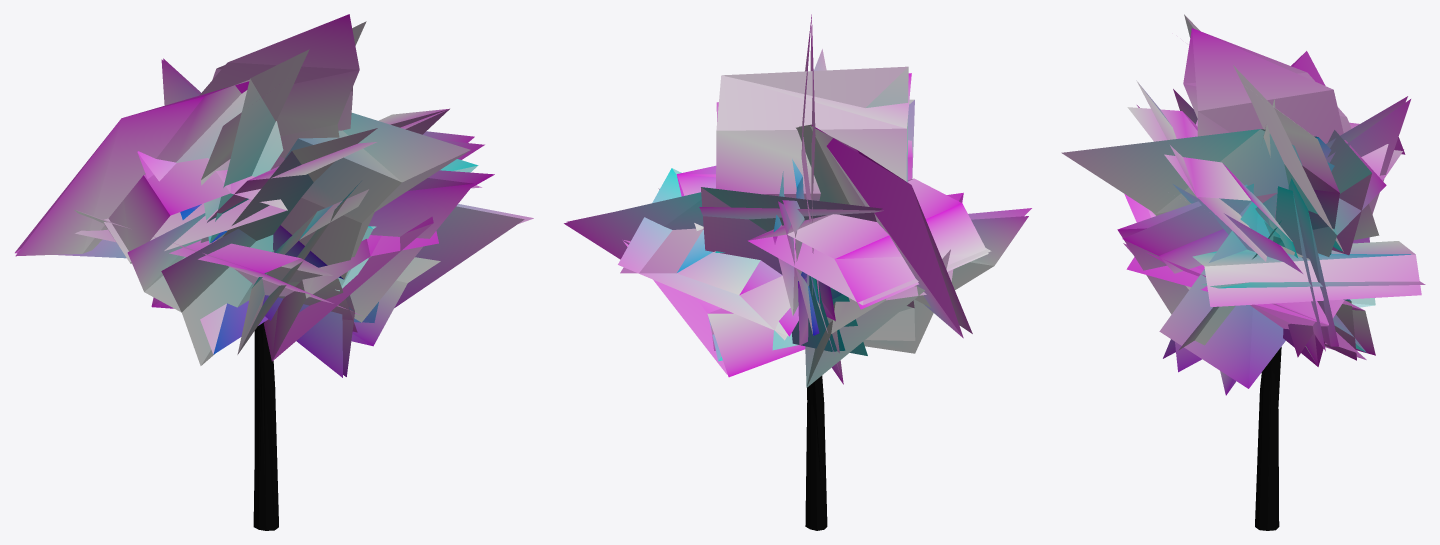
The model's file is ekasia_tumula_01_small_c.dae.
3 renders of one model, left to right at view 1: azimuth 30°, elevation 25°; view 2: azimuth 150°, elevation 25°; view 3: azimuth 270°, elevation 25°, orthographic. The views are drawn at different scales.
Parts seen in each view (by area): view 1: ekasia160, ekasia80; view 2: ekasia160, ekasia80; view 3: ekasia80, ekasia160.
Part boxes in pixels (x1,y1,x2,y2): ekasia160: (15,14,533,530); ekasia80: (15,21,524,530); ekasia160: (564,14,1028,530); ekasia80: (567,17,1031,528); ekasia80: (1061,14,1425,530); ekasia160: (1122,28,1421,530).
Size of what is drawn, in the model's own units: 8.43 by 5.89 by 9.26.
